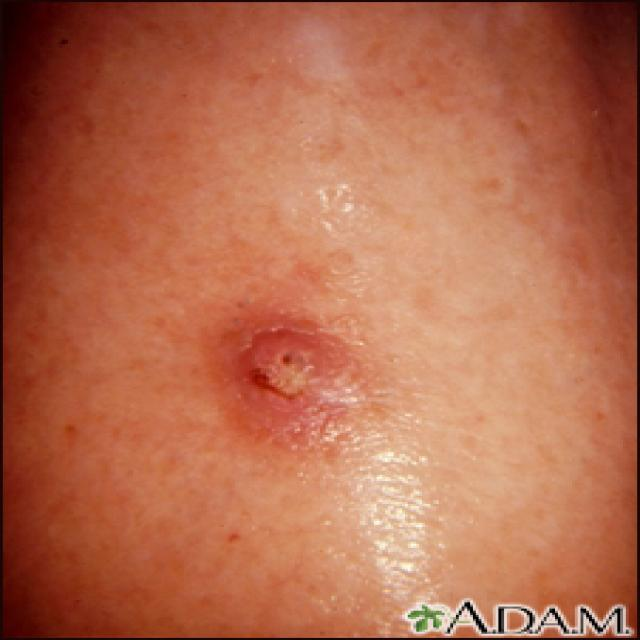Cancer: (195, 274, 363, 443)
